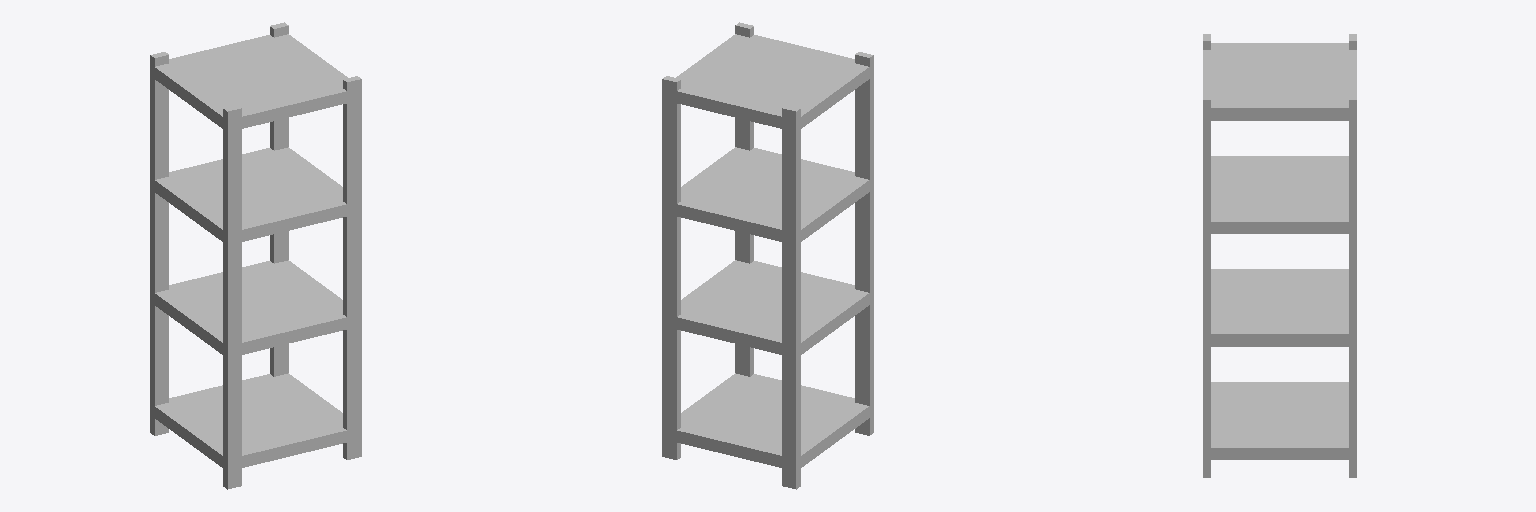
The model's file is sd_prop_shelf_S.obj.
3 renders of one model, left to right at view 1: azimuth 30°, elevation 25°; view 2: azimuth 150°, elevation 25°; view 3: azimuth 270°, elevation 25°, orthographic.
Visible parts, largest first — view 1: polySurface1; view 2: polySurface1; view 3: polySurface1.
Boxes of the visible parts, x1,y1,x2,y2 form: polySurface1: [150, 22, 361, 489]; polySurface1: [662, 22, 873, 489]; polySurface1: [1203, 34, 1356, 477].
Bounding box in the file's own units: 11.52 × 31 × 11.5.